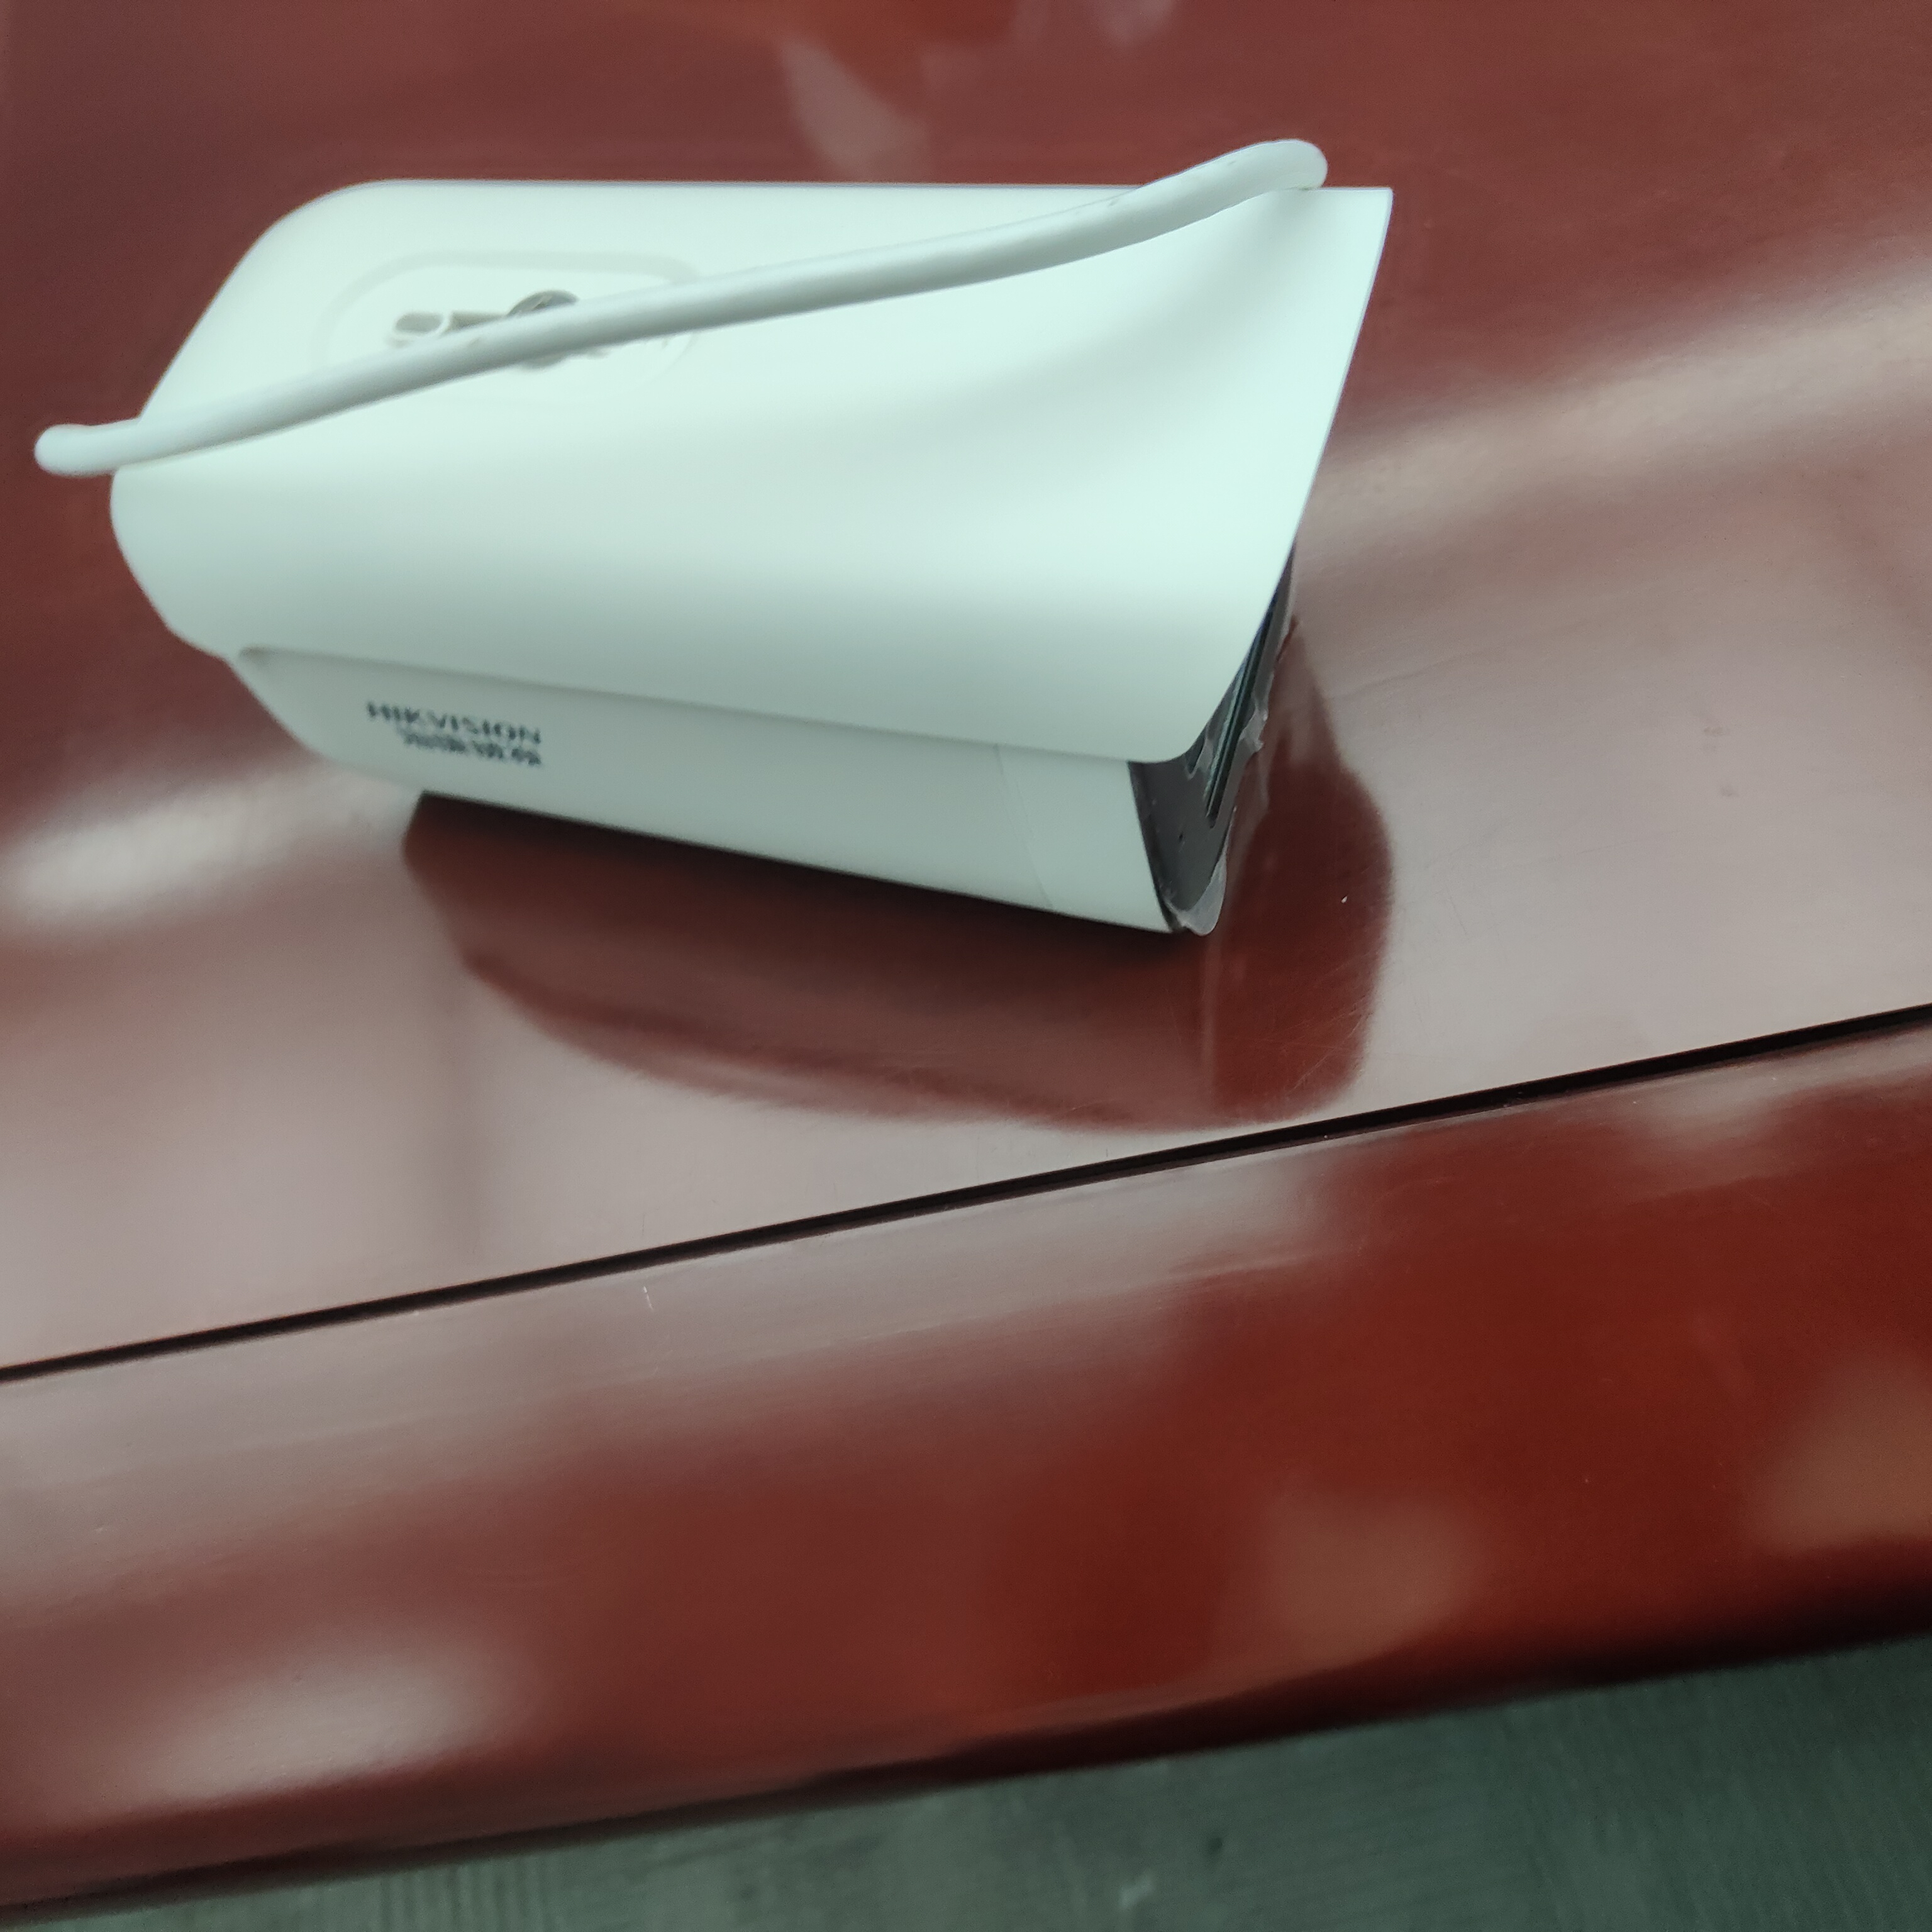hkws: (73, 106, 1474, 1021)
